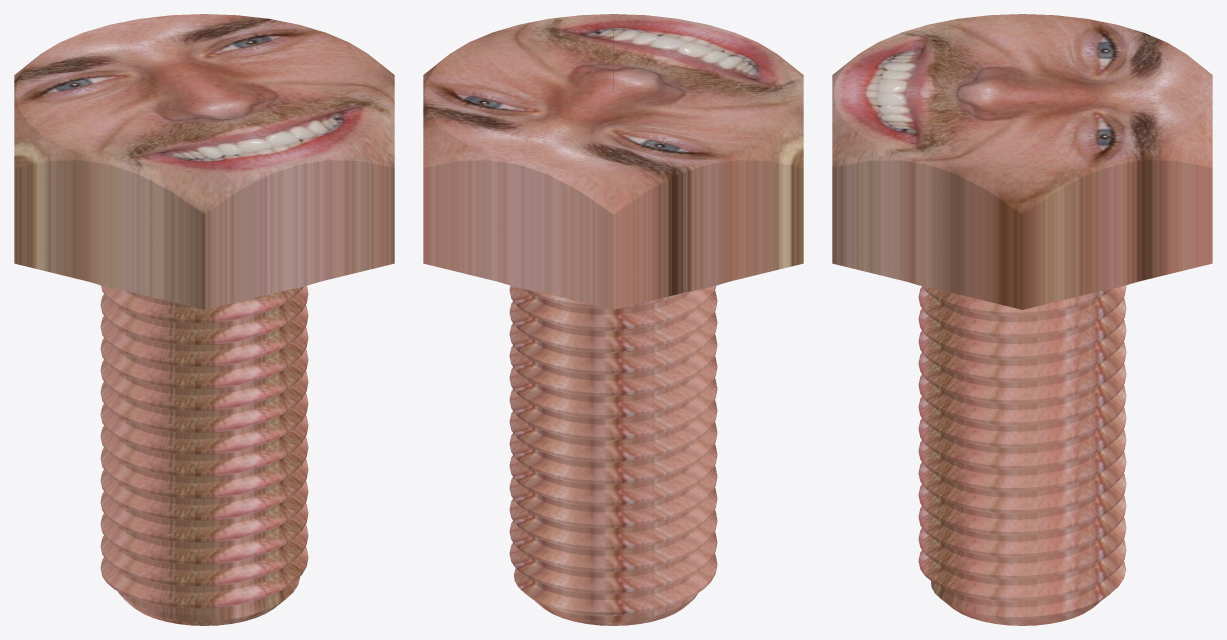
Rendered from kroeger-hex-bolt.glb.
3 renders of one model, left to right at view 1: azimuth 30°, elevation 25°; view 2: azimuth 150°, elevation 25°; view 3: azimuth 270°, elevation 25°, orthographic.
Parts seen in each view (by area): view 1: Bolt.003; view 2: Bolt.003; view 3: Bolt.003.
Part boxes in pixels (x1,y1,x2,y2): Bolt.003: (14, 14, 394, 625); Bolt.003: (423, 14, 803, 625); Bolt.003: (832, 14, 1212, 625).
Size of the model in its own units: 0.0127 by 0.0159 by 0.011.
1 material, 1 textured.
